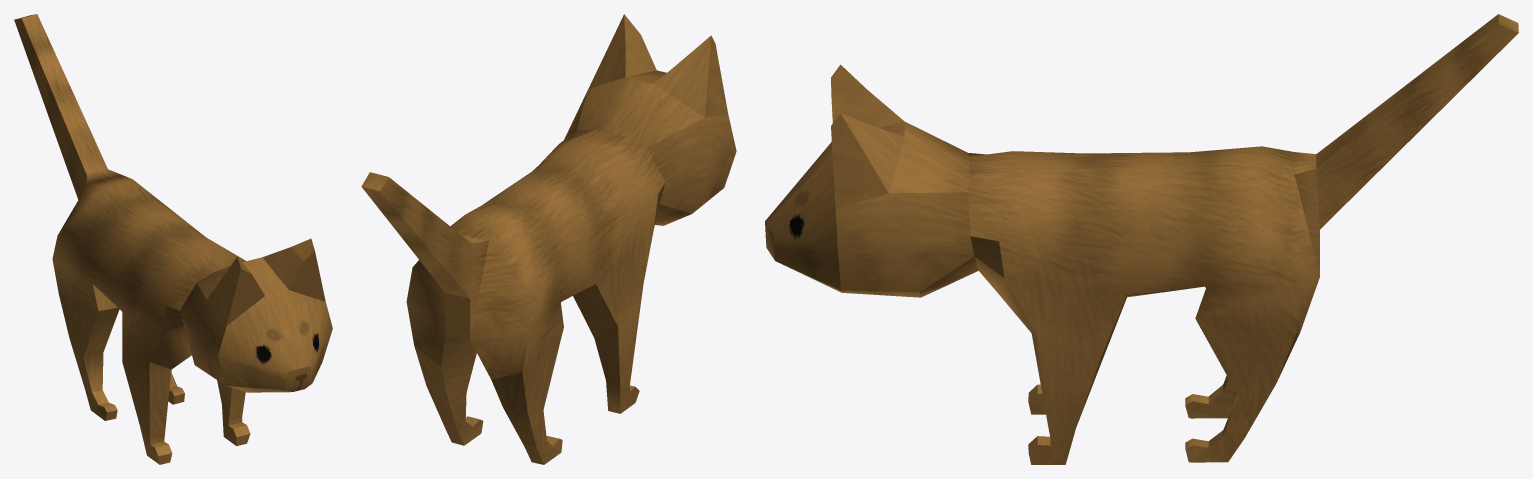
The model's file is catCOMEPLETEFBX.fbx.
The picture shows the model from 3 angles, left to right: view 1: azimuth 30°, elevation 25°; view 2: azimuth 150°, elevation 25°; view 3: azimuth 270°, elevation 25°; orthographic projection. The views are drawn at different scales.
Parts seen in each view (by area): view 1: pCube1; view 2: pCube1; view 3: pCube1.
Boxes of the visible parts, left/top/right/bottom form: pCube1: left=14, top=14, right=332, bottom=464; pCube1: left=361, top=14, right=736, bottom=464; pCube1: left=765, top=14, right=1518, bottom=464.
Size of the model in its own units: 0.4853 by 1.25 by 2.05.
Materials: 1 (1 with a texture image).
